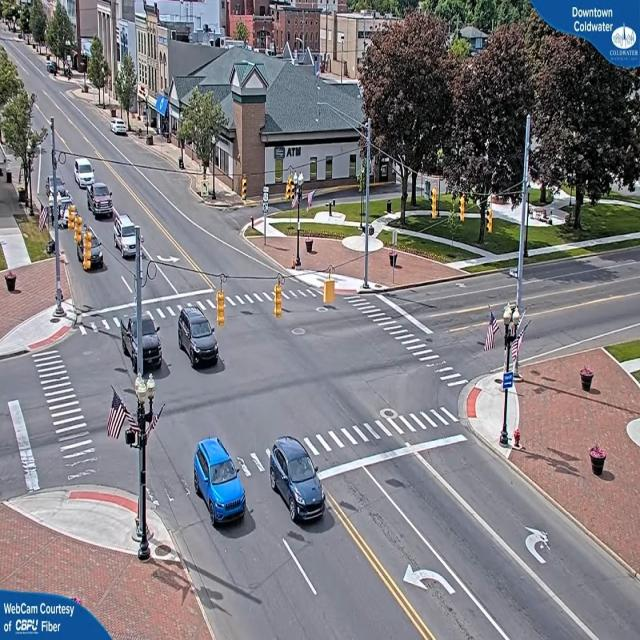car: (192, 439, 249, 531), (268, 438, 324, 524), (119, 309, 162, 379), (178, 304, 220, 366), (115, 217, 141, 259), (86, 183, 114, 218), (73, 157, 96, 193), (81, 238, 104, 274), (112, 120, 129, 136)
